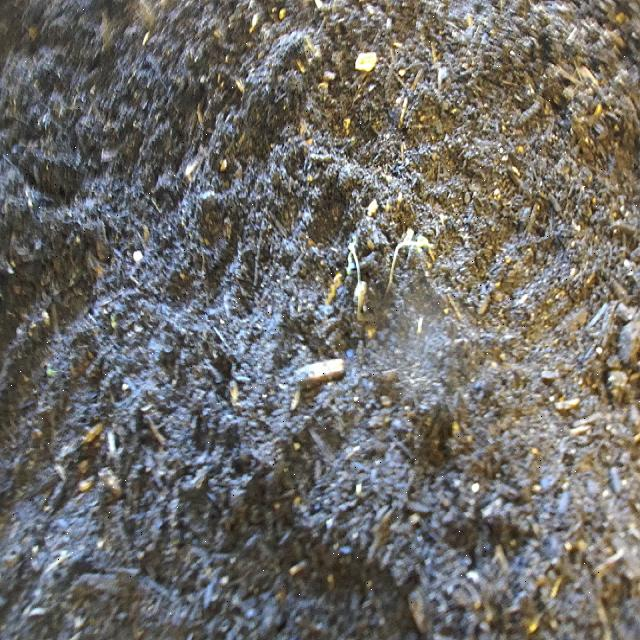Unhealthy: (328, 187, 444, 353)
